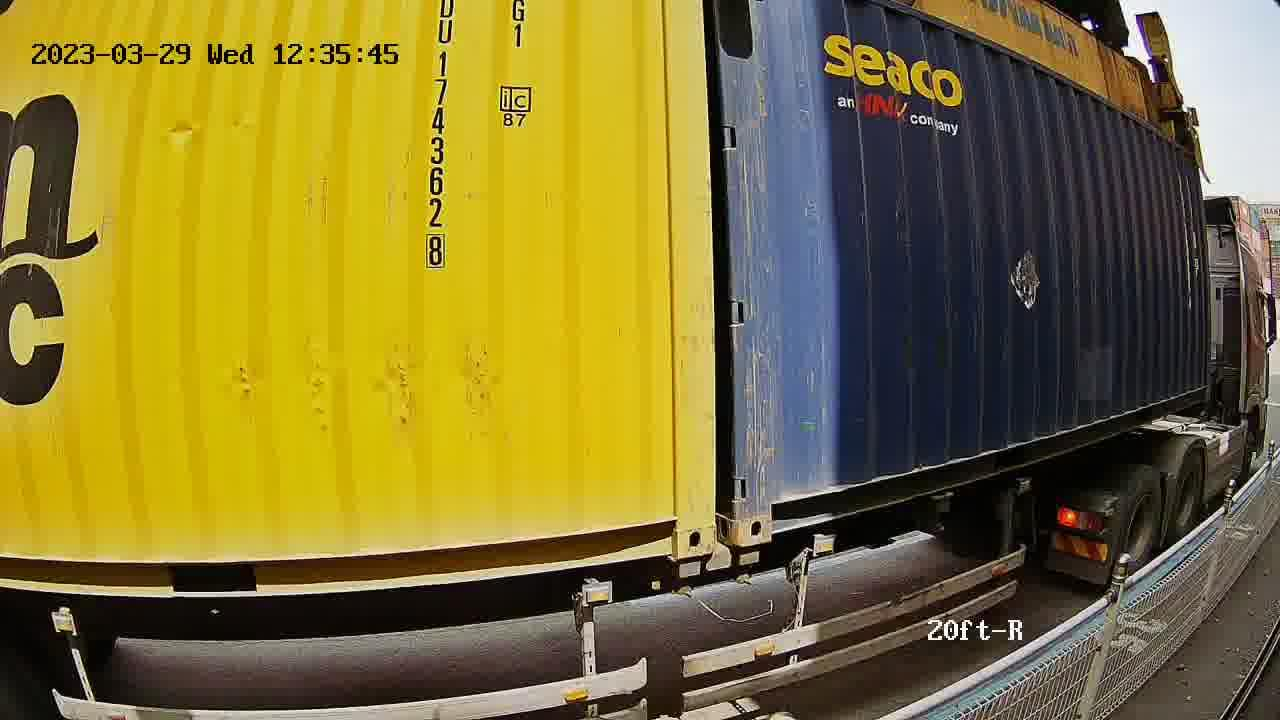Cone: (669, 556, 705, 601), (734, 543, 765, 588)
Hole_L: (736, 467, 797, 545)
Hole_R: (640, 486, 716, 558)
Tire: (1116, 470, 1161, 577), (1171, 453, 1207, 539)
